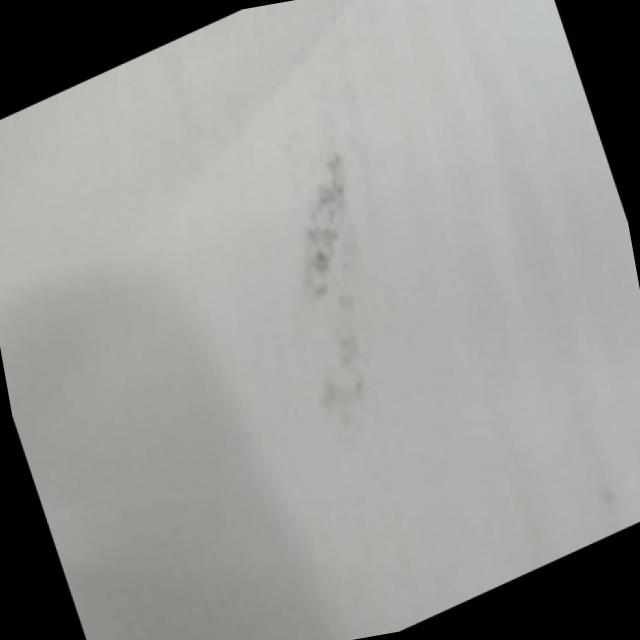stain: (238, 122, 438, 450)
